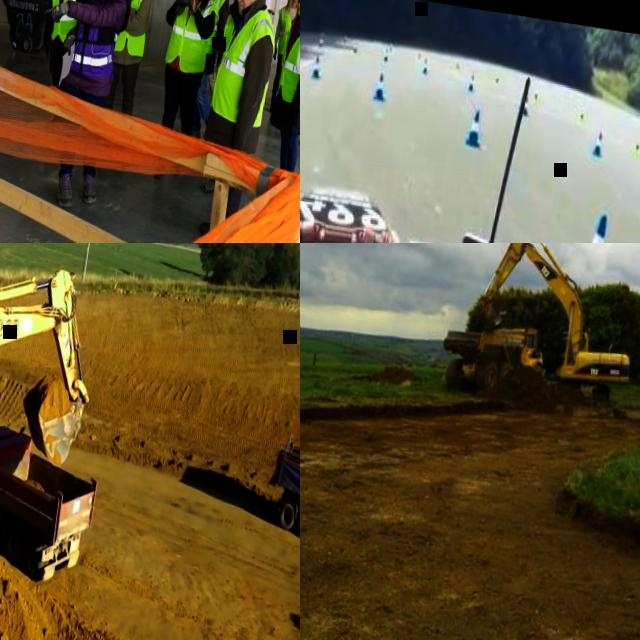NO-Mask: (237, 0, 249, 13), (296, 5, 300, 14)
Person: (18, 0, 134, 212), (188, 0, 287, 243), (144, 0, 224, 182), (33, 0, 95, 123), (183, 0, 236, 137), (261, 0, 300, 171), (103, 0, 160, 115), (265, 0, 300, 111), (221, 0, 240, 51)
Safety Cone: (580, 210, 616, 243), (467, 107, 485, 144), (373, 71, 390, 104), (592, 127, 605, 154), (520, 91, 532, 118), (576, 107, 587, 131), (380, 46, 391, 70), (311, 51, 321, 77), (630, 139, 640, 161), (465, 71, 475, 92), (531, 91, 540, 113), (422, 57, 430, 75)
Safety Vest: (209, 0, 282, 128), (69, 0, 131, 79), (162, 0, 221, 76), (112, 0, 154, 56), (274, 21, 300, 105), (45, 0, 91, 43), (201, 0, 230, 52), (272, 5, 294, 57)
machinery: (436, 243, 640, 417), (0, 243, 105, 551), (0, 415, 105, 588), (262, 429, 300, 540)
vehicle: (300, 0, 640, 243)
